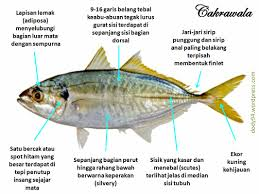Ikan Selar: (15, 55, 247, 141)
